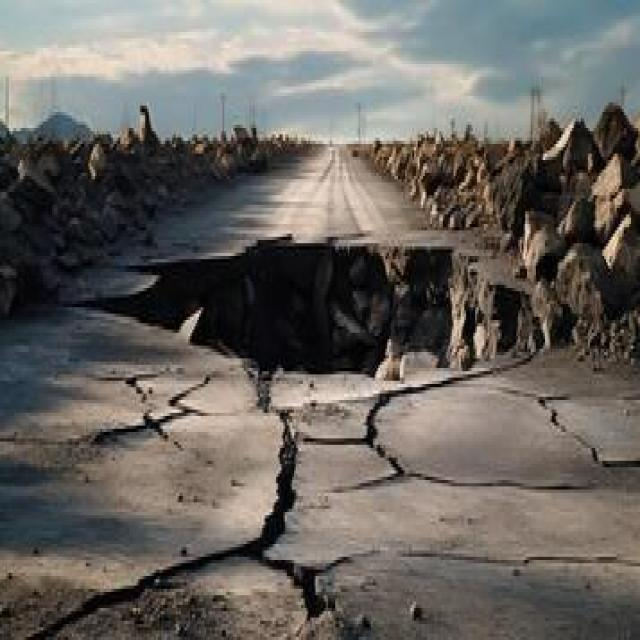road collapse: (79, 121, 596, 640)
